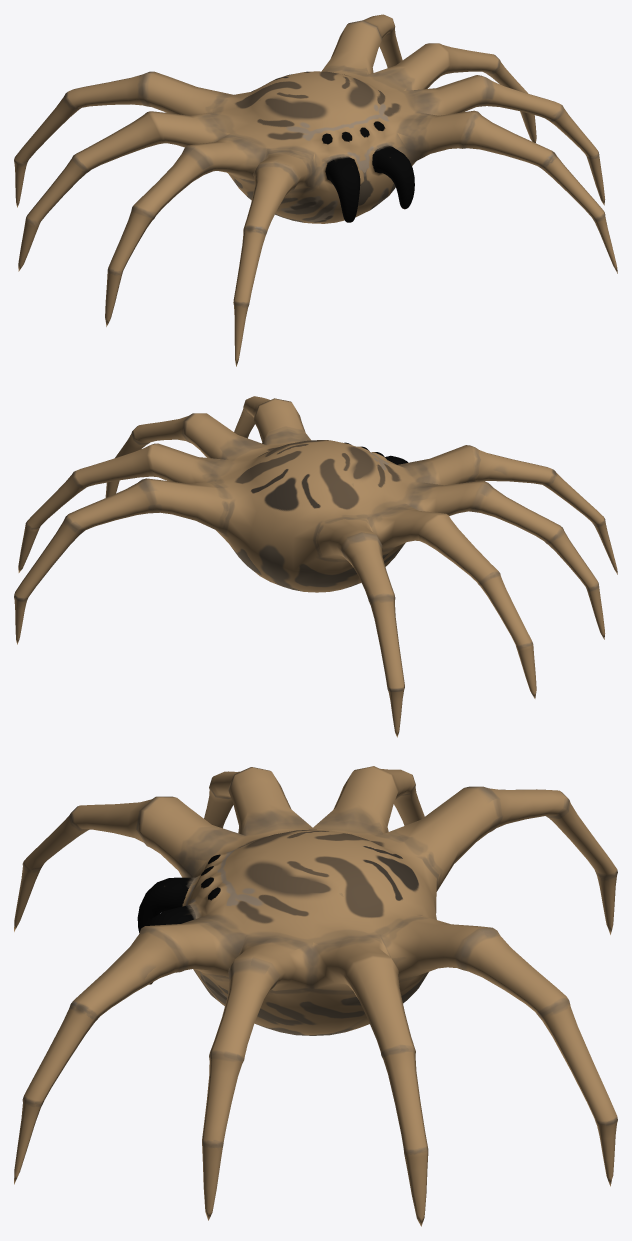
Rendered from Spider_v2_1.glb.
The picture shows the model from 3 angles, top to bottom: view 1: azimuth 30°, elevation 25°; view 2: azimuth 150°, elevation 25°; view 3: azimuth 270°, elevation 25°; orthographic projection. The views are drawn at different scales.
Visible parts, largest first — view 1: Sphere; view 2: Sphere; view 3: Sphere.
Part boxes in pixels (left/top/right/bottom): Sphere: left=14, top=14, right=617, bottom=366; Sphere: left=14, top=396, right=617, bottom=737; Sphere: left=14, top=766, right=617, bottom=1226.
Size of the model in its own units: 5.87 by 1.72 by 4.37.
1 material, 1 textured.
